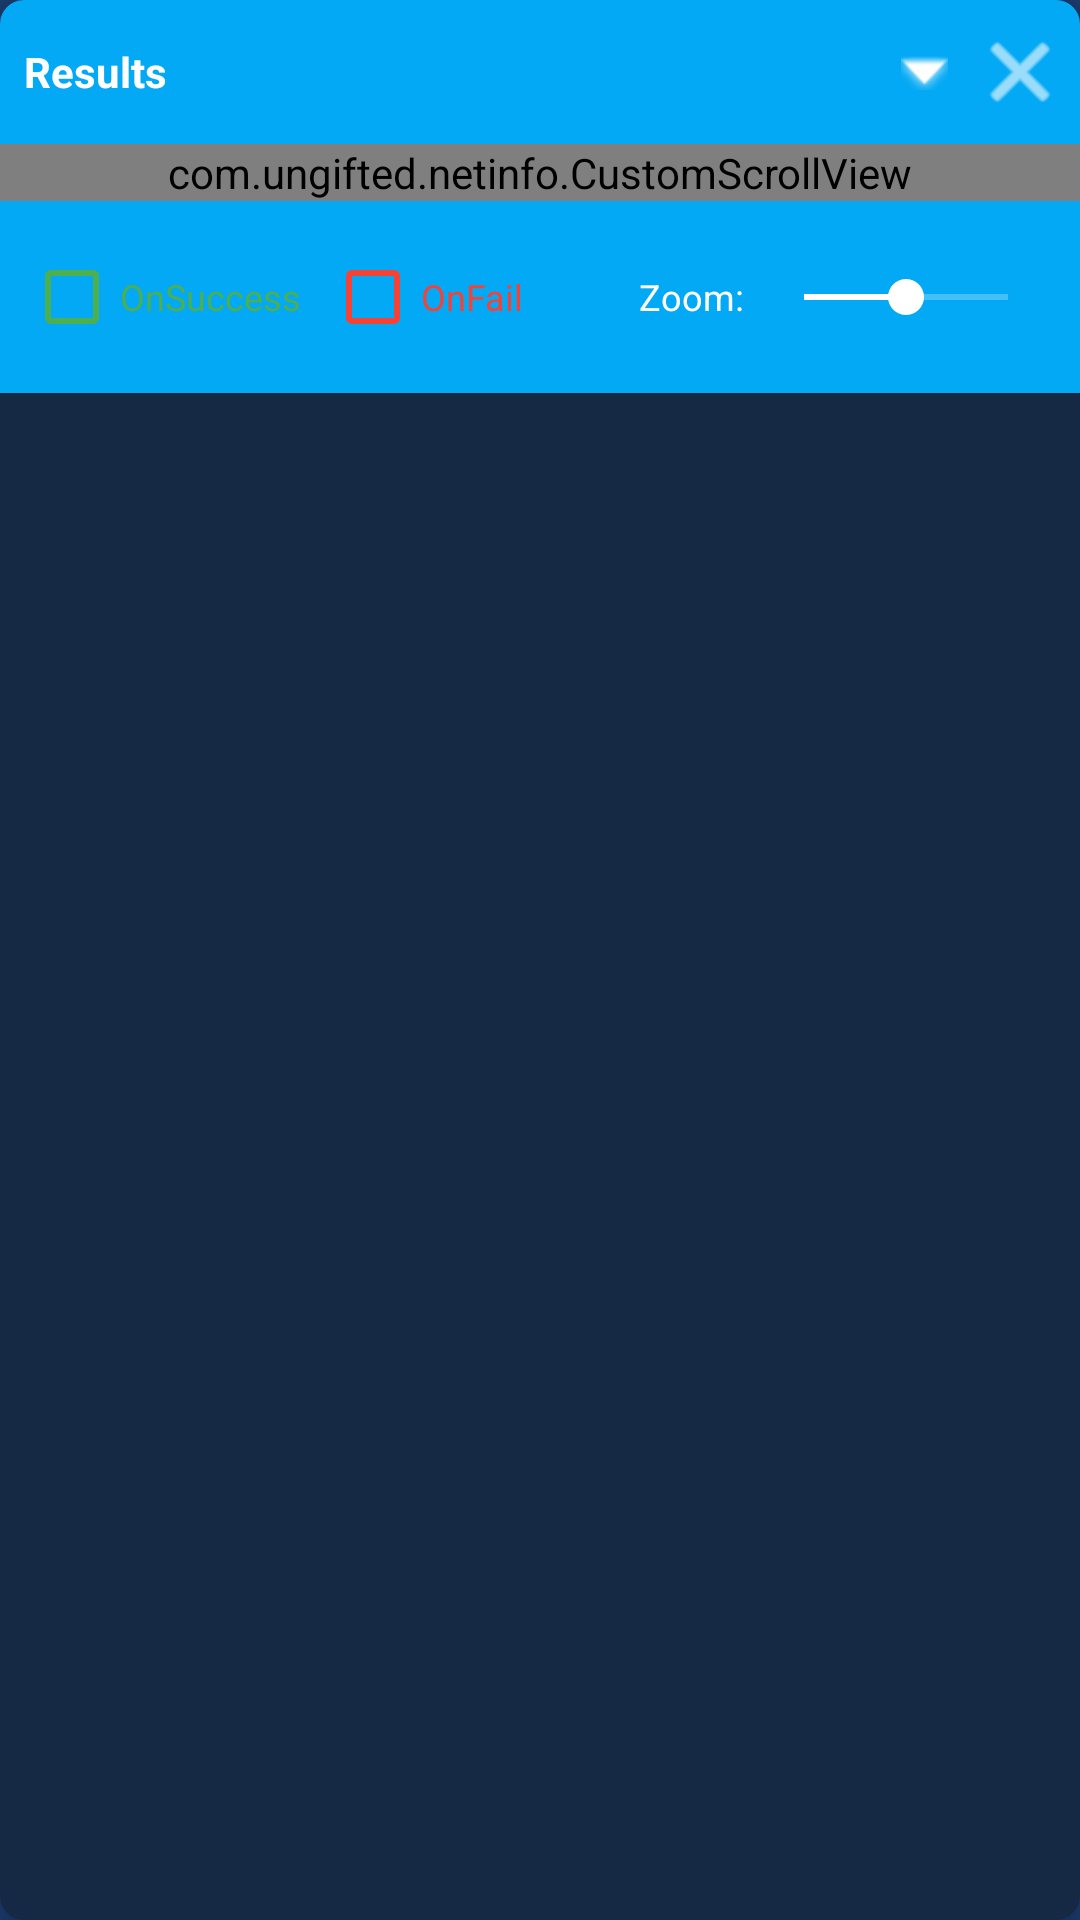

Where to tap for icons on this 1080*1920 app screen, as point (x, y):
arrow down float: point (924, 73)
close clear cancel: point (1020, 72)
